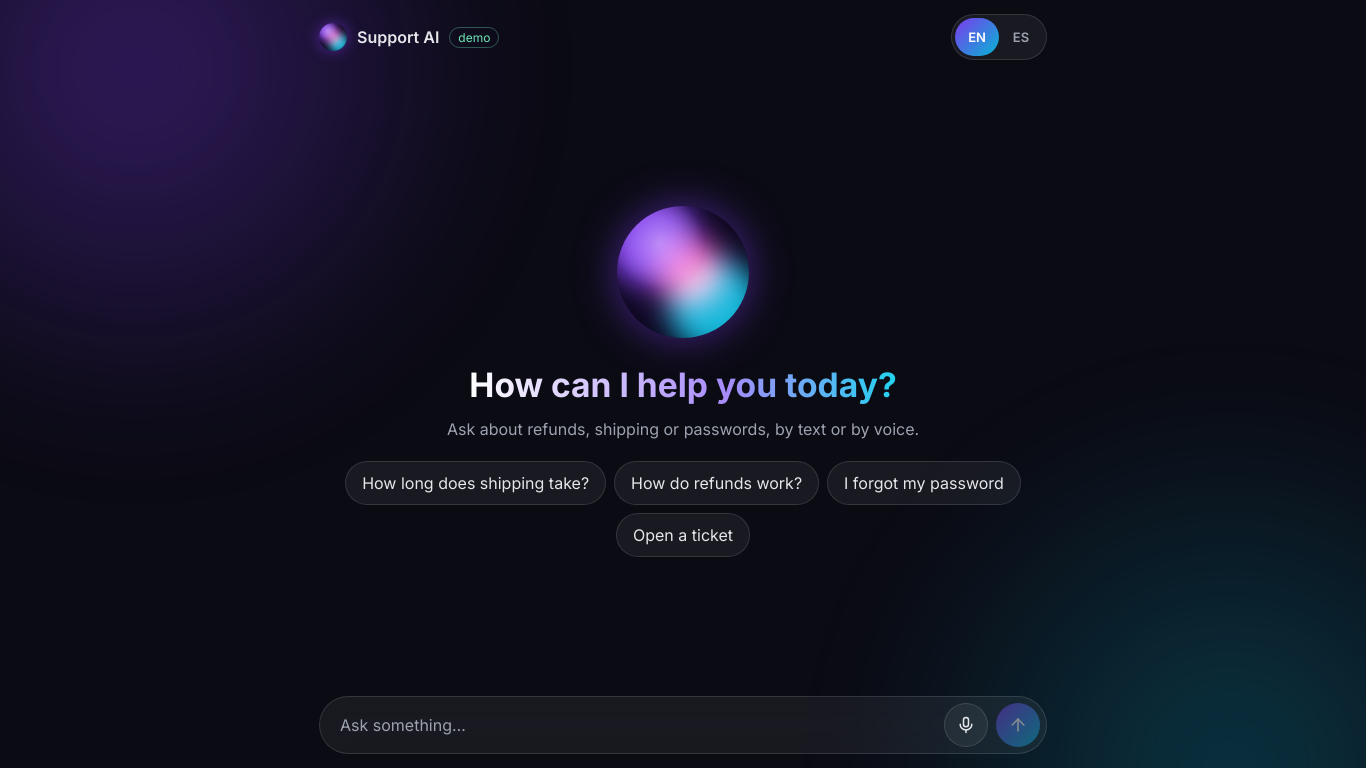
App › switches every text to Spanish from the language toggle
The width and height of the screenshot is (1366, 768).
Click the button "ES" at (1021, 37), box [999,18,1043,56]
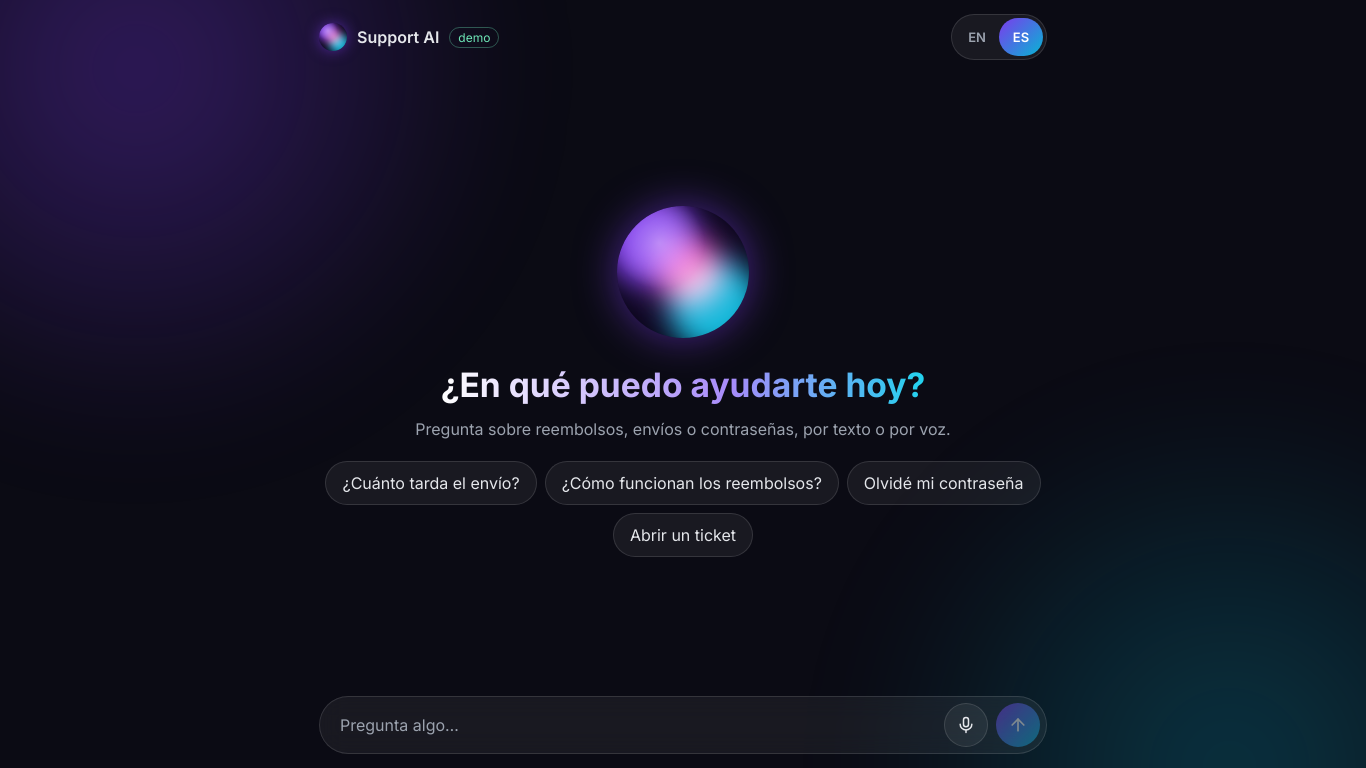
Result: the heading "¿En qué puedo ayudarte hoy?" is shown at [441,364,925,404]
Result: the field labelled "Pregunta algo…" is shown at [338,703,936,747]
